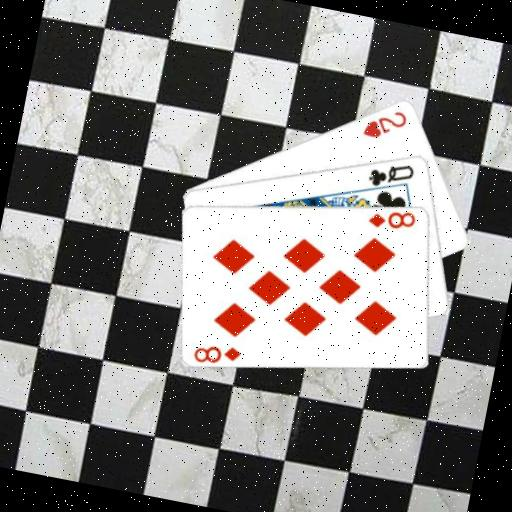2H: (359, 101, 410, 145)
8D: (364, 201, 419, 236), (189, 336, 244, 371)
QC: (364, 154, 418, 194)
